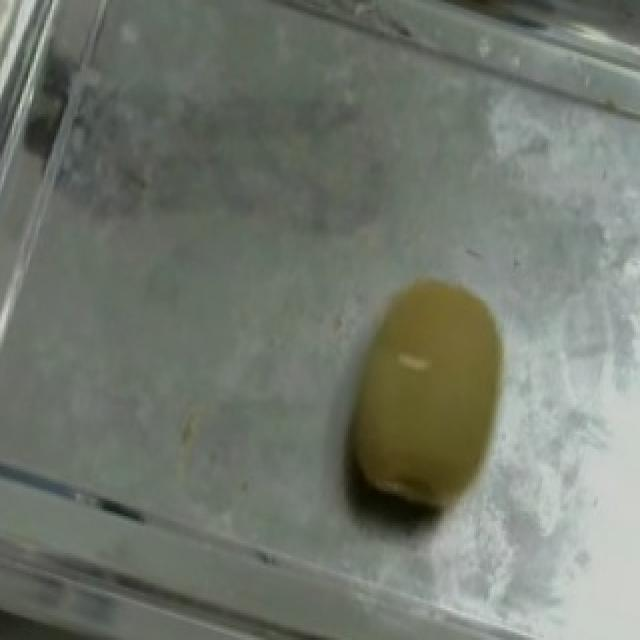Fruit: (304, 241, 546, 548)
